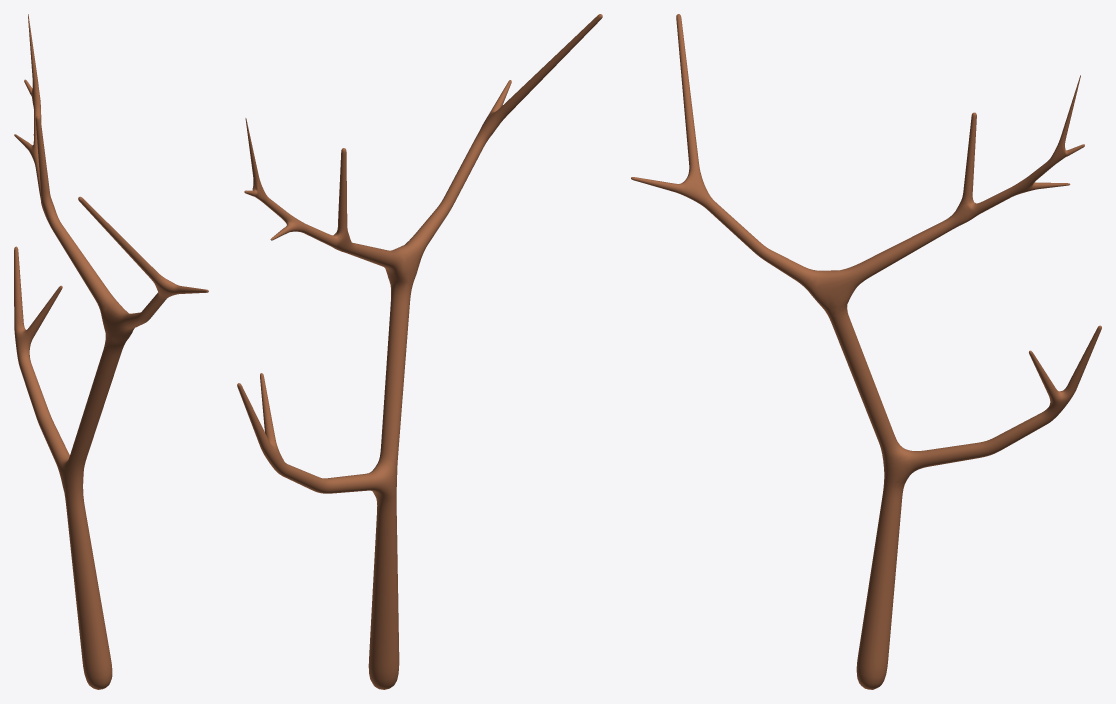
File: Branchs.fbx
3 renders of one model, left to right at view 1: azimuth 30°, elevation 25°; view 2: azimuth 150°, elevation 25°; view 3: azimuth 270°, elevation 25°, orthographic. The views are drawn at different scales.
Visible parts, largest first — view 1: Plane; view 2: Plane; view 3: Plane.
Boxes of the visible parts, x1,y1,x2,y2 form: Plane: (14, 14, 208, 689); Plane: (237, 14, 602, 689); Plane: (631, 14, 1101, 689).
Size of the model in its own units: 69.61 by 263 by 179.
